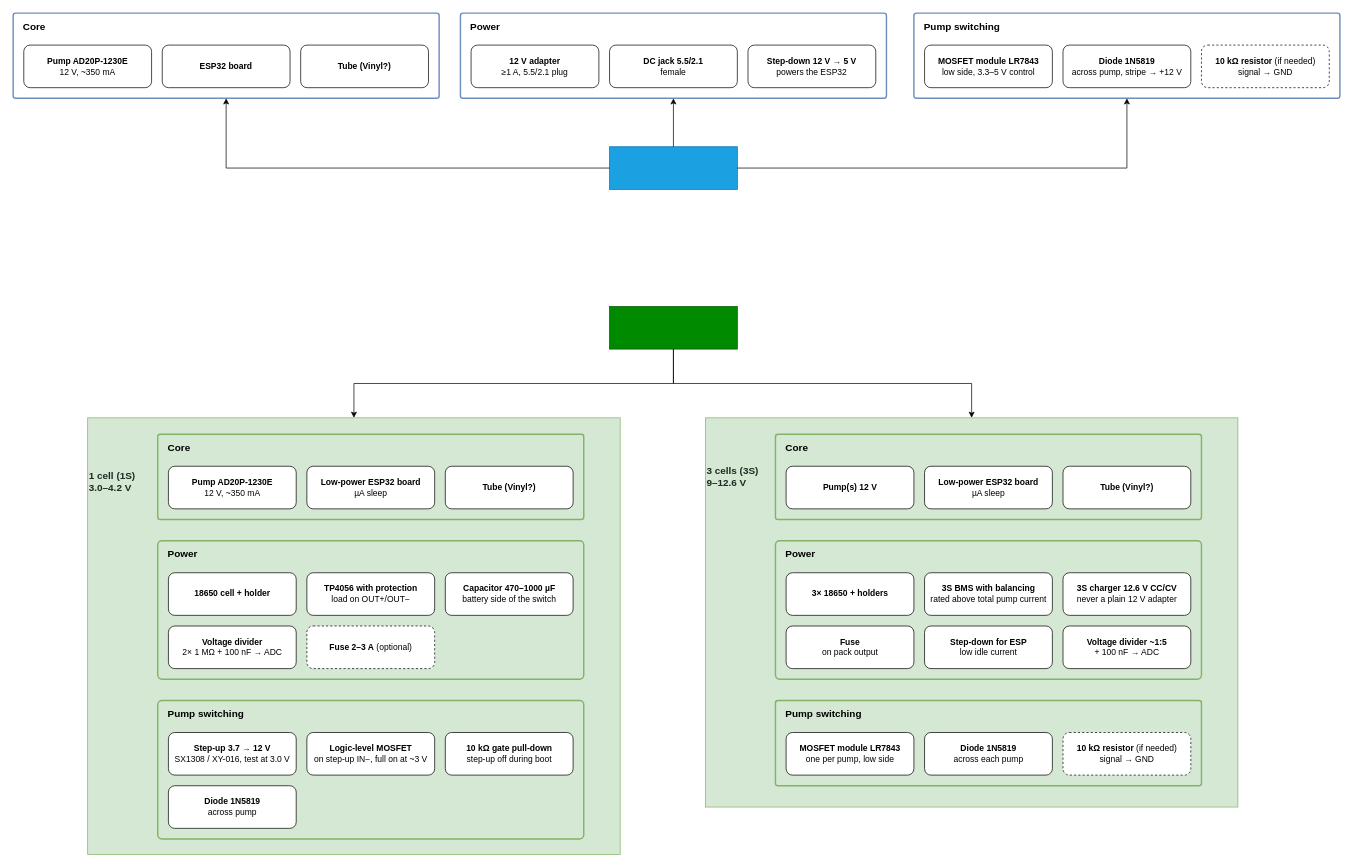
Image size: 1353x867. Some labels were removed from this diagram. The shapes that lost their labels are listed below. From the top down, each one's centre as x and y in pixels, then its label:
(673,167): Zahradník (IN)
(673,327): Zahradník OUT
